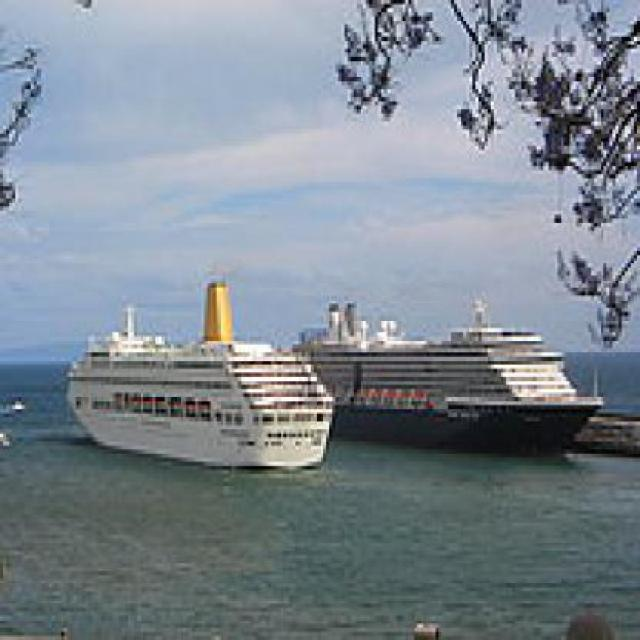cruise: (50, 265, 352, 479), (291, 285, 617, 479)
